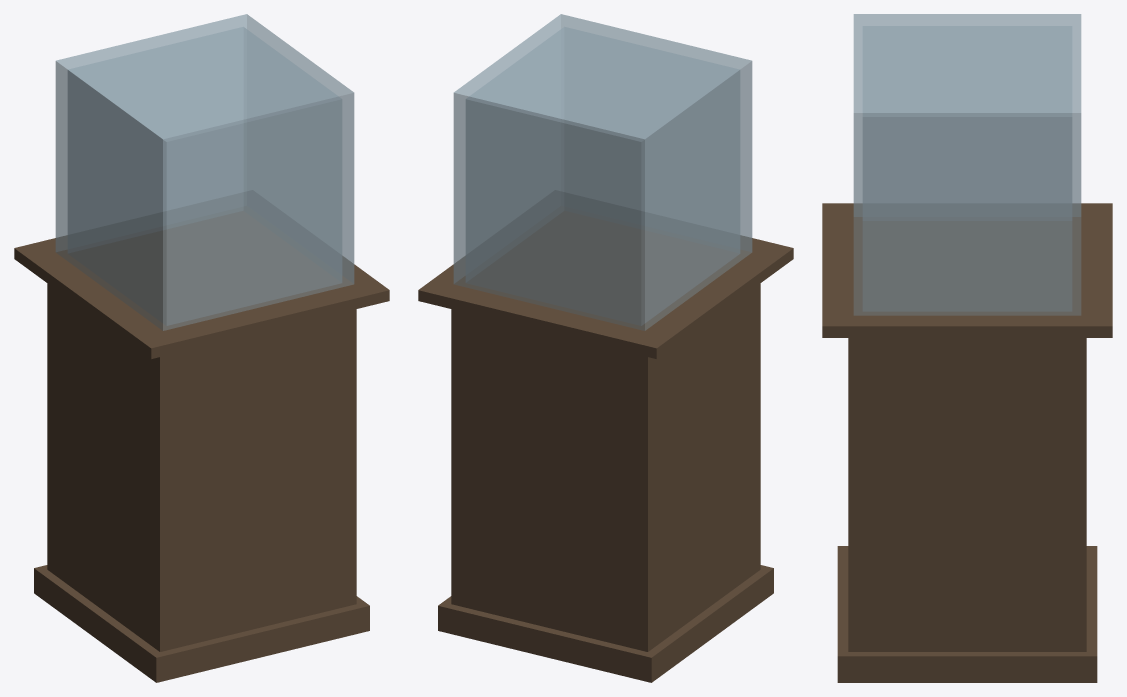
The model's file is Mesa Pequeña Exposicion 1.fbx.
3 renders of one model, left to right at view 1: azimuth 30°, elevation 25°; view 2: azimuth 150°, elevation 25°; view 3: azimuth 270°, elevation 25°, orthographic. The views are drawn at different scales.
Visible parts, largest first — view 1: Base_2, Vidrio_Mesa_1; view 2: Base_2, Vidrio_Mesa_1; view 3: Base_2, Vidrio_Mesa_1.
Boxes of the visible parts, bbox=[...] form: Base_2: bbox=[14, 210, 389, 682]; Vidrio_Mesa_1: bbox=[55, 14, 354, 330]; Base_2: bbox=[418, 210, 793, 682]; Vidrio_Mesa_1: bbox=[453, 14, 752, 330]; Base_2: bbox=[822, 203, 1112, 682]; Vidrio_Mesa_1: bbox=[853, 14, 1081, 315].
Bounding box in the file's own units: 0.8882 × 1.9 × 0.8833.
